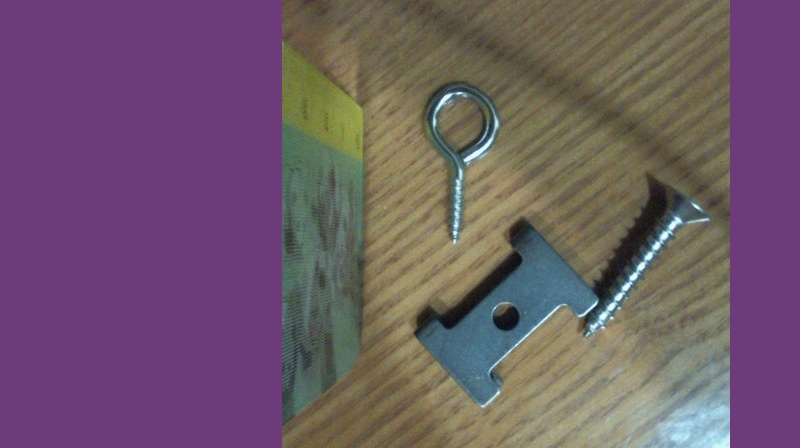O001: (419, 77, 503, 245)
O002: (411, 215, 603, 410)
S001: (575, 177, 712, 340)
